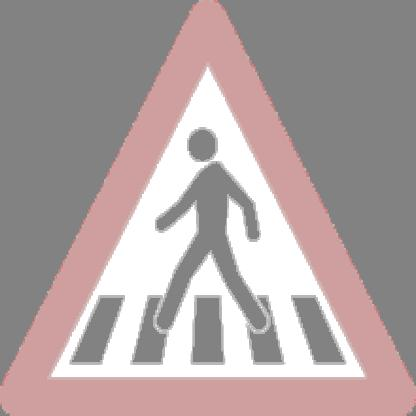Pedestrian Crossing: (21, 18, 401, 401)
